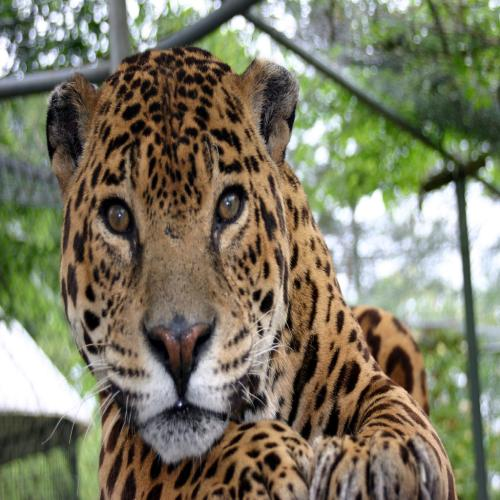jaguar_not-endangered: (47, 52, 452, 500)
